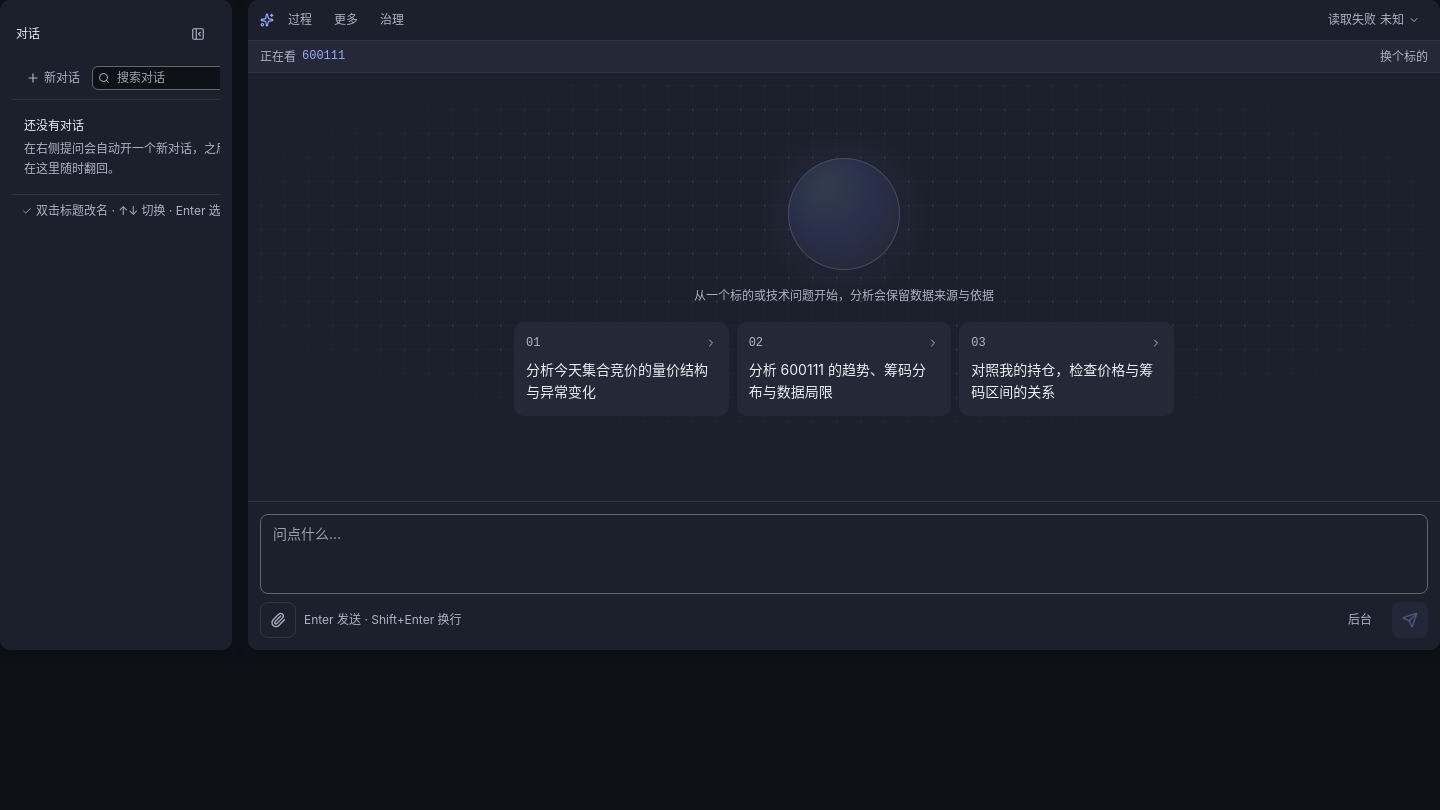
回答内价格锚定接线 › 点价位 chip → 出「K线锚点」回执，带标的与工作台链接
Expected: the button named "发送" is shown, [1392,602,1428,638]
Type "600111 怎么样" into the text box with placeholder "问点什么…" at (844,554), box [260,514,1428,594]
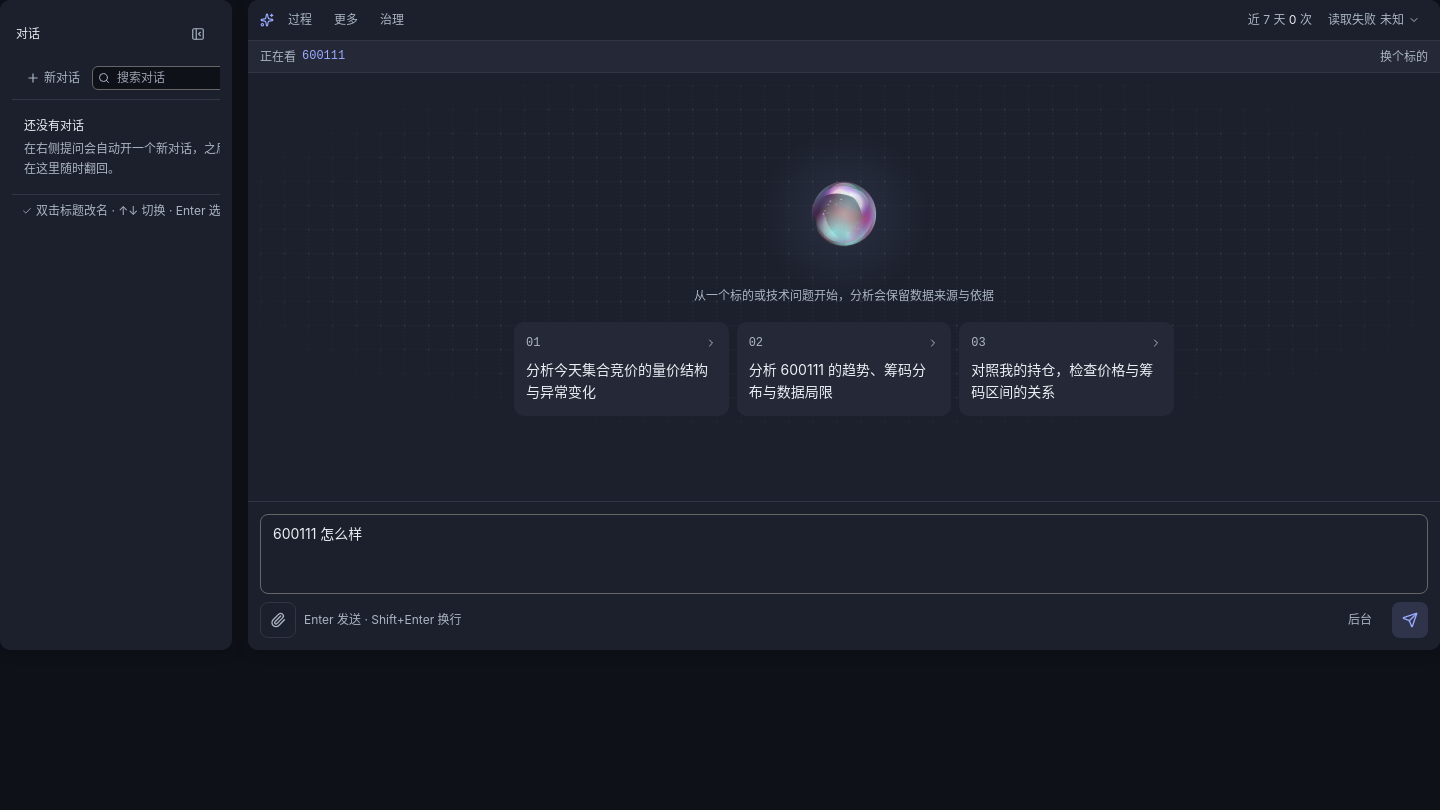
Click the button named "发送" at (1410,620), box [1392,602,1428,638]
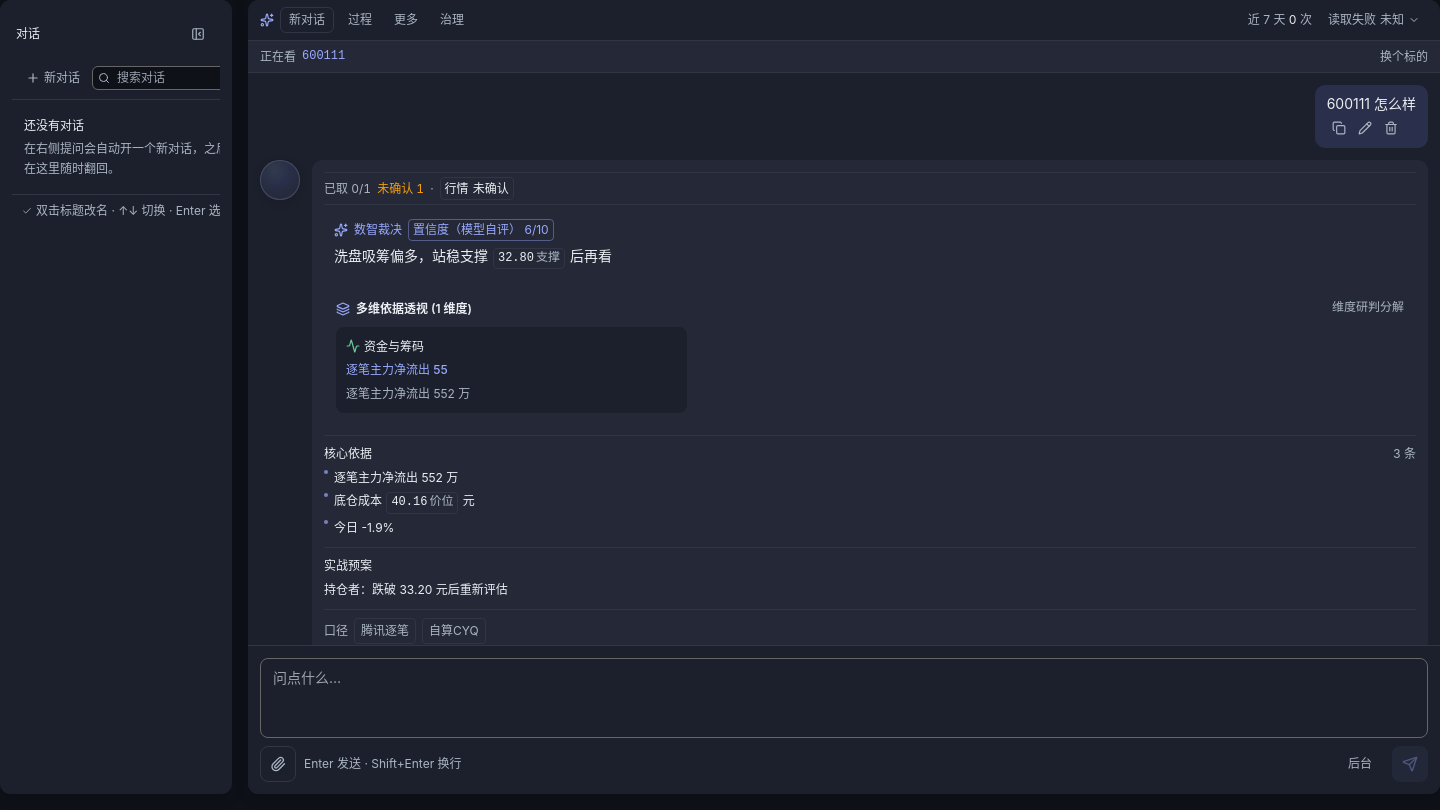
Now the element with test id "copilot-answer-card" is shown, box [324,211,1416,645]
Now the button with test id "answer-price-anchor" is shown
Click the button with test id "answer-price-anchor" at (529,258), box [493,248,565,269]
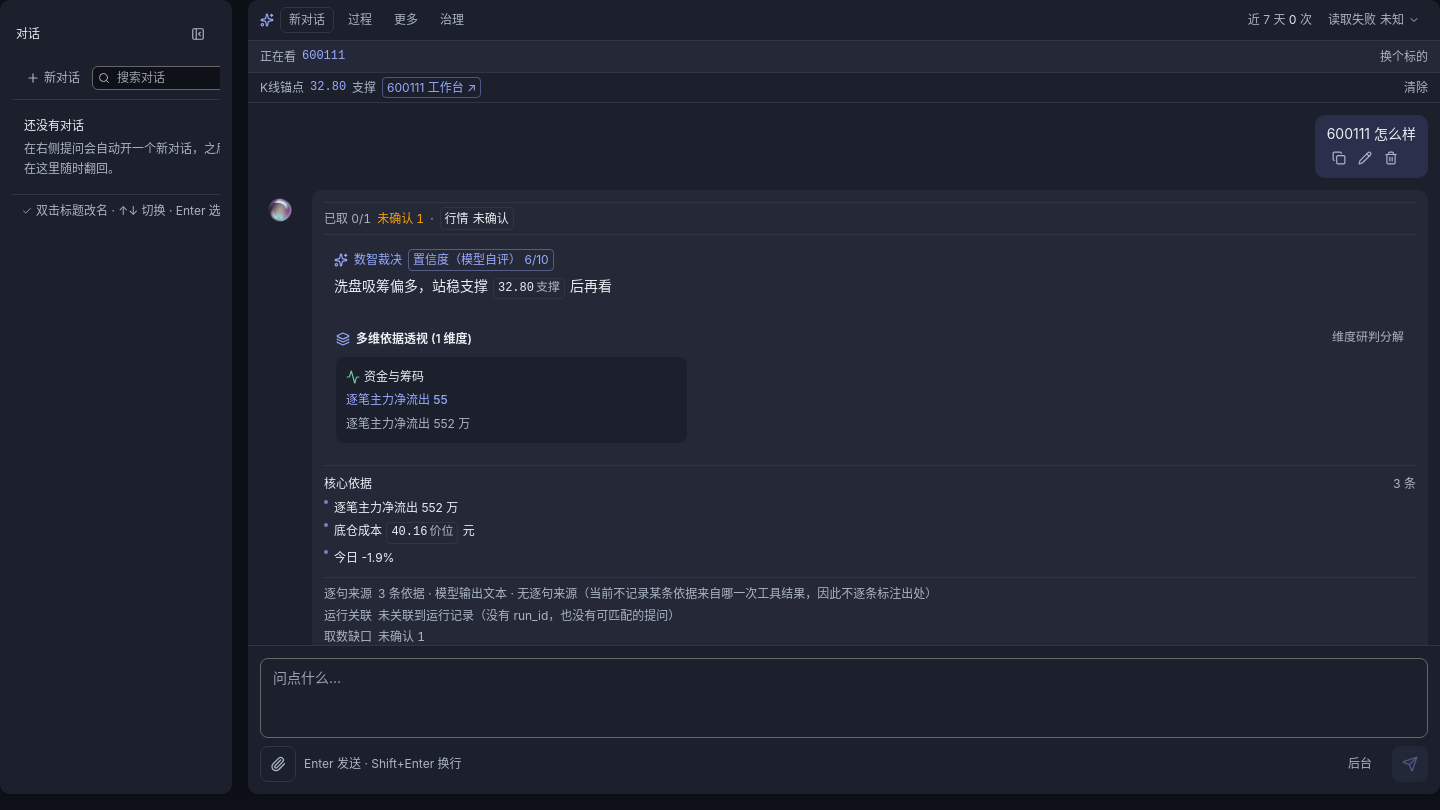
Now the element with test id "copilot-price-anchor" is shown, box [248,73,1439,103]
Now the element with test id "copilot-price-anchor" shows "32.80", box [310,80,346,94]
Now the element with test id "copilot-price-anchor" shows "支撑", box [352,80,376,95]
Click the button "清除" at (1416,88), box [1404,78,1428,97]
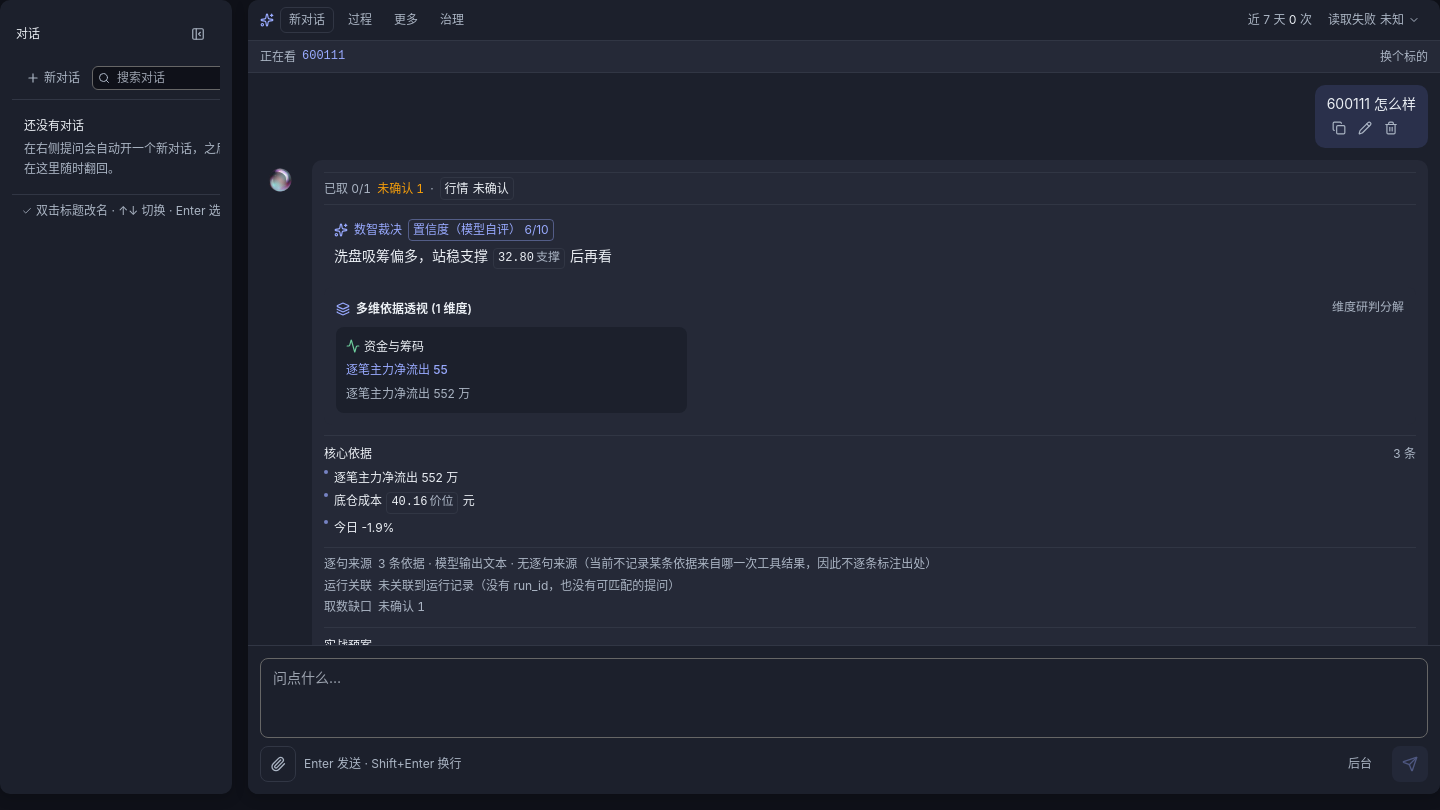
Now the element with test id "copilot-price-anchor" is gone
